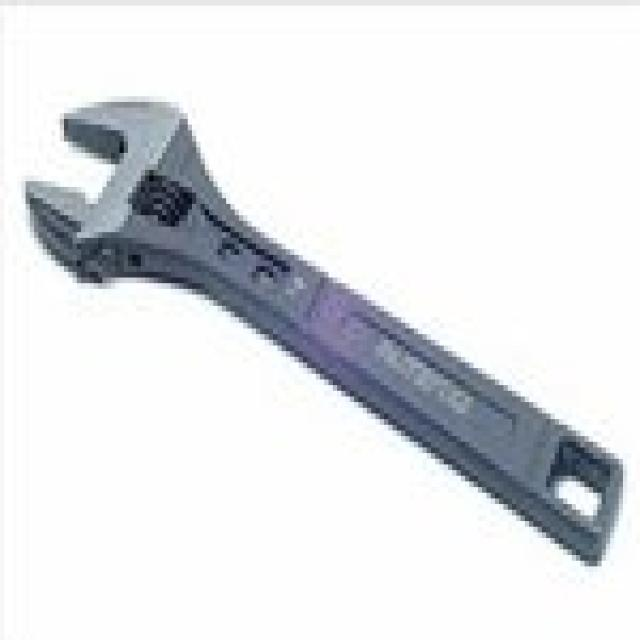wrench: (8, 56, 640, 611)
